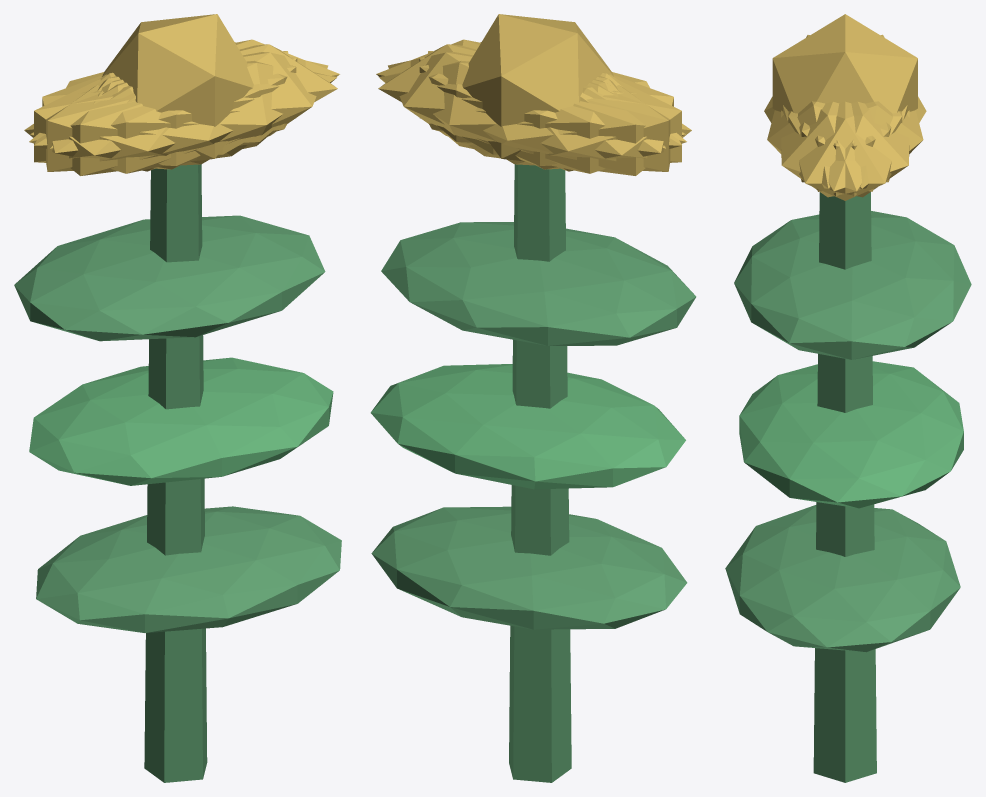
The model's file is syngonium-podophyllum.glb.
3 renders of one model, left to right at view 1: azimuth 30°, elevation 25°; view 2: azimuth 150°, elevation 25°; view 3: azimuth 270°, elevation 25°, orthographic.
Visible parts, largest first — view 1: leaf2, leaf0, leaf1, stem, center, petal1, petal6, petal2, petal5, petal7, petal0, petal4 (+2 smaller); view 2: leaf2, leaf1, leaf0, stem, center, petal8, petal3, petal7, petal4, petal2, petal0, petal5 (+2 smaller); view 3: leaf2, leaf0, leaf1, stem, center, petal0, petal4, petal5, petal1, petal8.
Boxes of the visible parts, box(x1,y1,x2,y2) form: leaf2: box(14, 215, 325, 341); leaf0: box(36, 506, 341, 632); leaf1: box(29, 357, 333, 485); stem: box(144, 164, 207, 782); center: box(102, 14, 253, 161); petal1: box(29, 60, 336, 173); petal6: box(24, 74, 247, 175); petal2: box(46, 51, 288, 171); petal5: box(50, 52, 328, 165); petal7: box(34, 57, 297, 169); petal0: box(101, 44, 337, 155); petal4: box(30, 39, 339, 145); leaf2: box(381, 222, 696, 345); leaf1: box(370, 364, 685, 489); leaf0: box(371, 506, 687, 629); stem: box(509, 164, 571, 782); center: box(462, 14, 613, 161); petal8: box(379, 60, 686, 173); petal3: box(469, 74, 691, 175); petal7: box(428, 51, 670, 171); petal4: box(388, 52, 666, 165); petal2: box(419, 57, 681, 169); petal0: box(378, 44, 614, 155); petal5: box(376, 39, 685, 145); leaf2: box(734, 211, 971, 359); leaf0: box(725, 505, 960, 652); leaf1: box(739, 361, 963, 508); stem: box(813, 192, 876, 782); center: box(772, 14, 917, 113); petal0: box(783, 101, 907, 200); petal4: box(788, 101, 909, 197); petal5: box(781, 101, 902, 197); petal1: box(767, 101, 891, 188); petal8: box(799, 101, 923, 188).
Bounding box in the file's own units: 0.1452 × 0.3416 × 0.1036.
